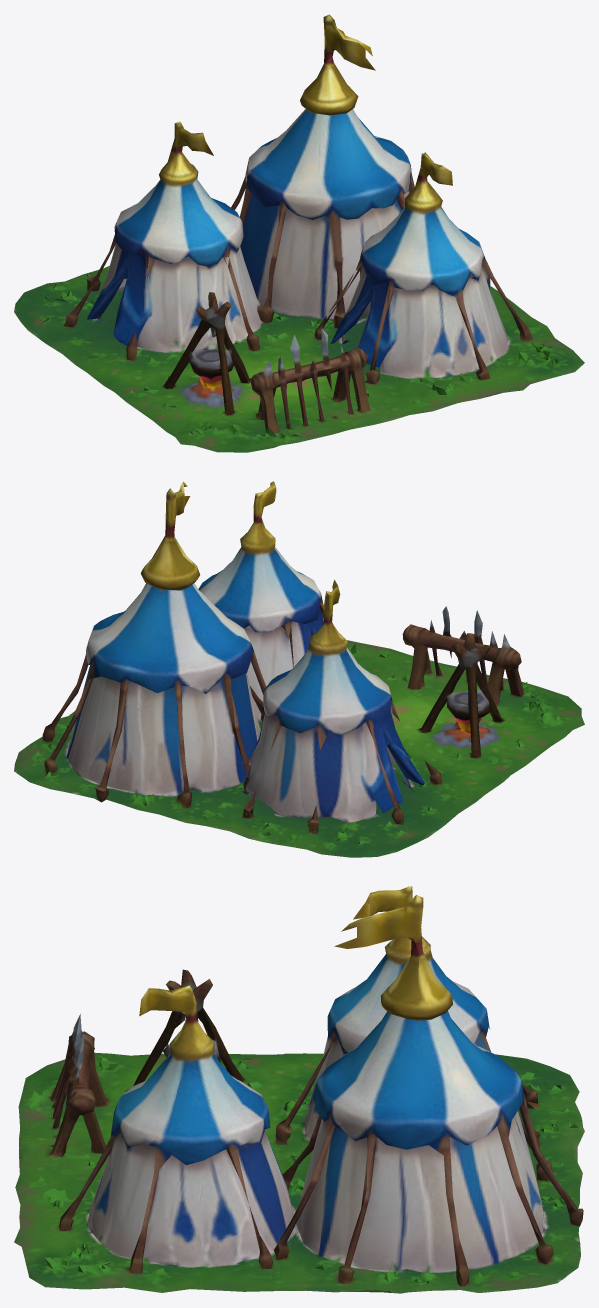
The model's file is camp_kingdom.glb.
3 views of the same model, one above another, from view 1: azimuth 30°, elevation 25°; view 2: azimuth 150°, elevation 25°; view 3: azimuth 270°, elevation 25° (orthographic). The views are drawn at different scales.
Parts seen in each view (by area): view 1: world; view 2: world; view 3: world.
Boxes of the visible parts, x1,y1,x2,y2 form: world: [14, 14, 584, 452]; world: [14, 481, 584, 857]; world: [14, 886, 584, 1293].
Size of the model in its own units: 0.9865 by 0.6347 by 0.984.
1 material, 1 textured.
